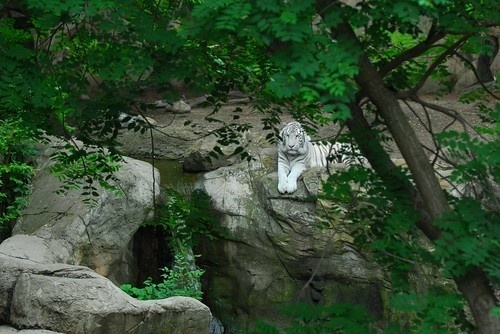tigre: (275, 120, 377, 196)
